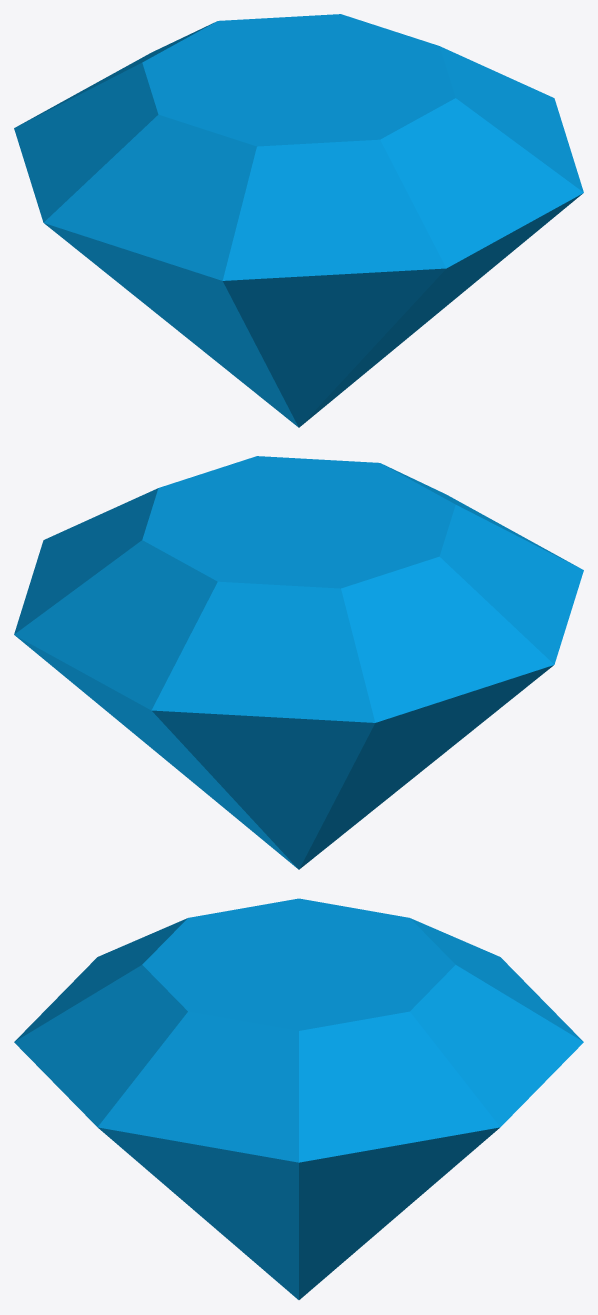
The model's file is gem_diamond.fbx.
The picture shows the model from 3 angles, top to bottom: view 1: azimuth 30°, elevation 25°; view 2: azimuth 150°, elevation 25°; view 3: azimuth 270°, elevation 25°; orthographic projection. The views are drawn at different scales.
Parts seen in each view (by area): view 1: Gem_Diamond; view 2: Gem_Diamond; view 3: Gem_Diamond.
Boxes of the visible parts, x1,y1,x2,y2 form: Gem_Diamond: (14,14,583,427); Gem_Diamond: (14,456,583,869); Gem_Diamond: (14,898,583,1299).
Bounding box in the file's own units: 1 × 0.65 × 1.
